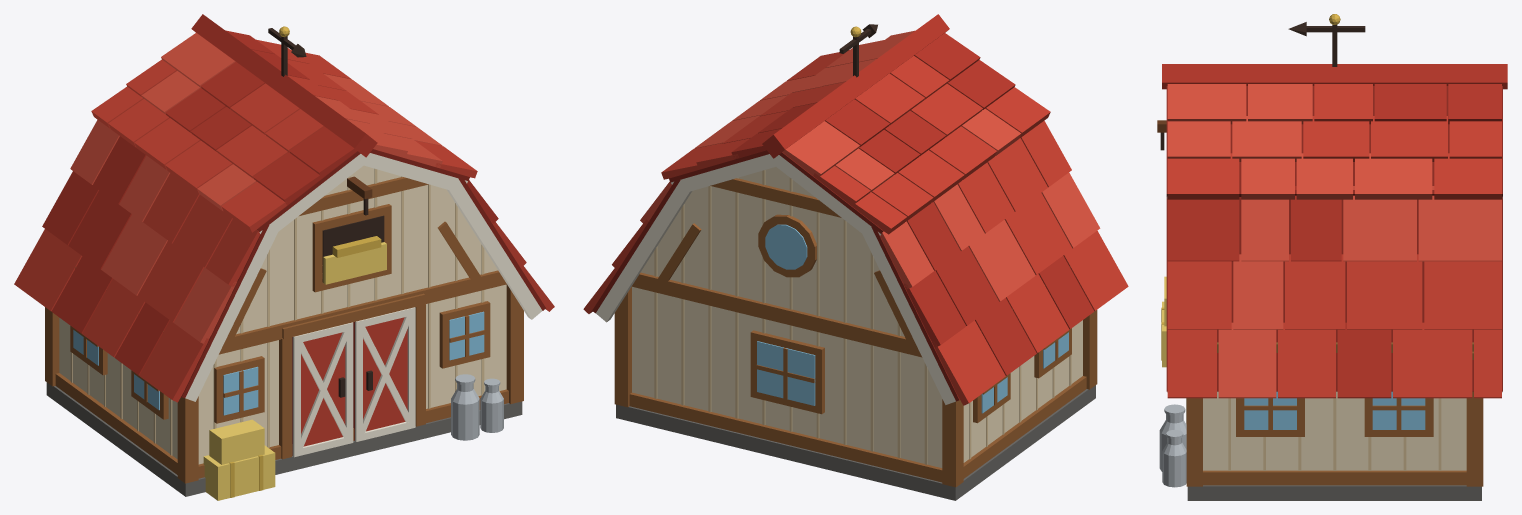
Rendered from cowbarn.glb.
The picture shows the model from 3 angles, left to right: view 1: azimuth 30°, elevation 25°; view 2: azimuth 150°, elevation 25°; view 3: azimuth 270°, elevation 25°; orthographic projection. The views are drawn at different scales.
Parts seen in each view (by area): view 1: CowBarn_Roof, CowBarn_Trim, CowBarn_Body, CowBarn_Props; view 2: CowBarn_Roof, CowBarn_Body, CowBarn_Trim; view 3: CowBarn_Roof, CowBarn_Body, CowBarn_Trim, CowBarn_Props.
Boxes of the visible parts, bbox=[...] form: CowBarn_Roof: bbox=[14, 14, 554, 402]; CowBarn_Trim: bbox=[45, 176, 523, 483]; CowBarn_Body: bbox=[46, 165, 522, 496]; CowBarn_Props: bbox=[203, 374, 503, 500]; CowBarn_Roof: bbox=[583, 14, 1128, 405]; CowBarn_Body: bbox=[616, 167, 1095, 500]; CowBarn_Trim: bbox=[614, 178, 1097, 487]; CowBarn_Roof: bbox=[1162, 14, 1507, 398]; CowBarn_Body: bbox=[1187, 391, 1481, 500]; CowBarn_Trim: bbox=[1157, 120, 1483, 486]; CowBarn_Props: bbox=[1159, 276, 1186, 487].
Size of the model in its own units: 4 by 3.78 by 3.
